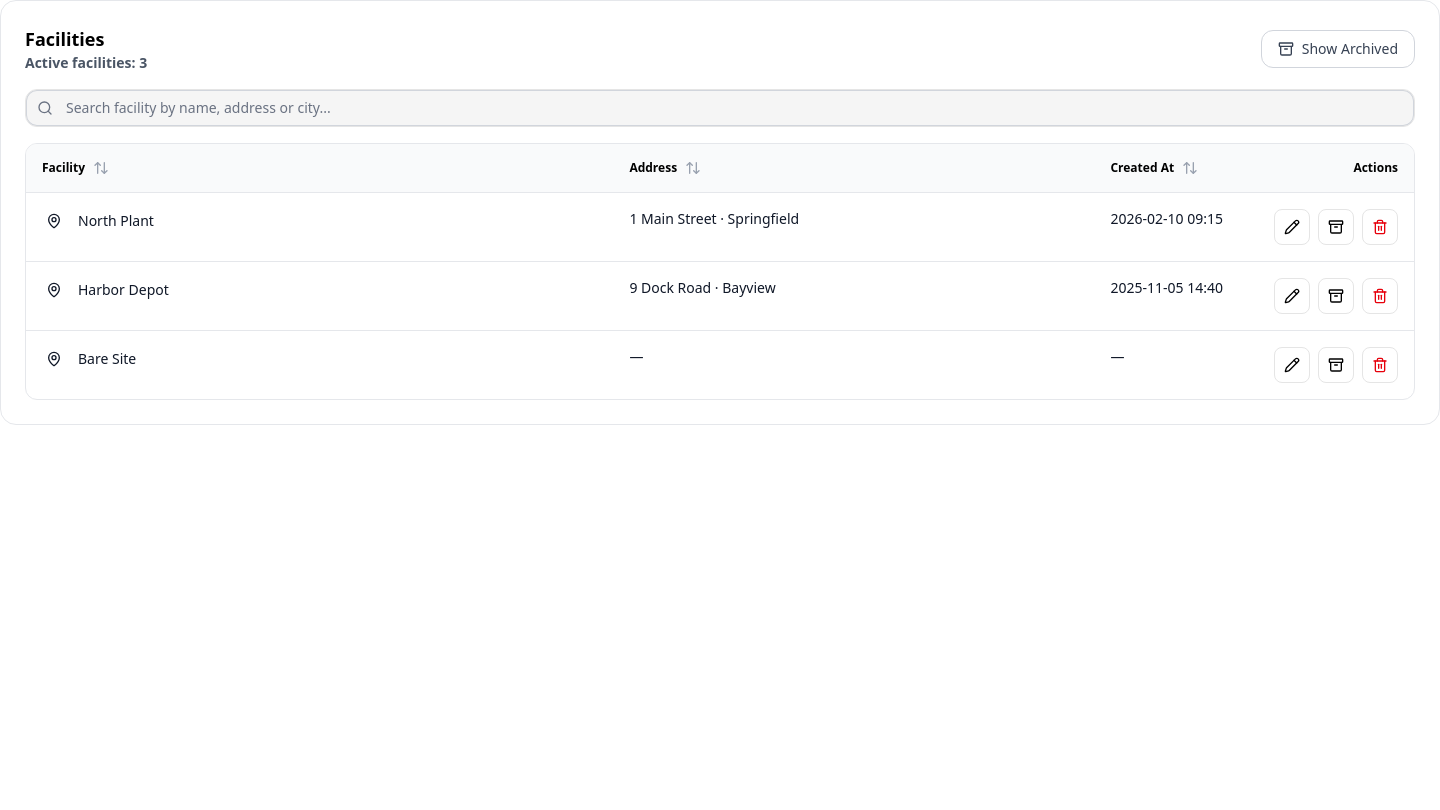
Test: FacilitiesContent › edit › loads legacy notes into the description field
Click the button named "Edit facility" in the row of "Harbor Depot". click: (1292, 296)
box: [1274,278,1310,314]
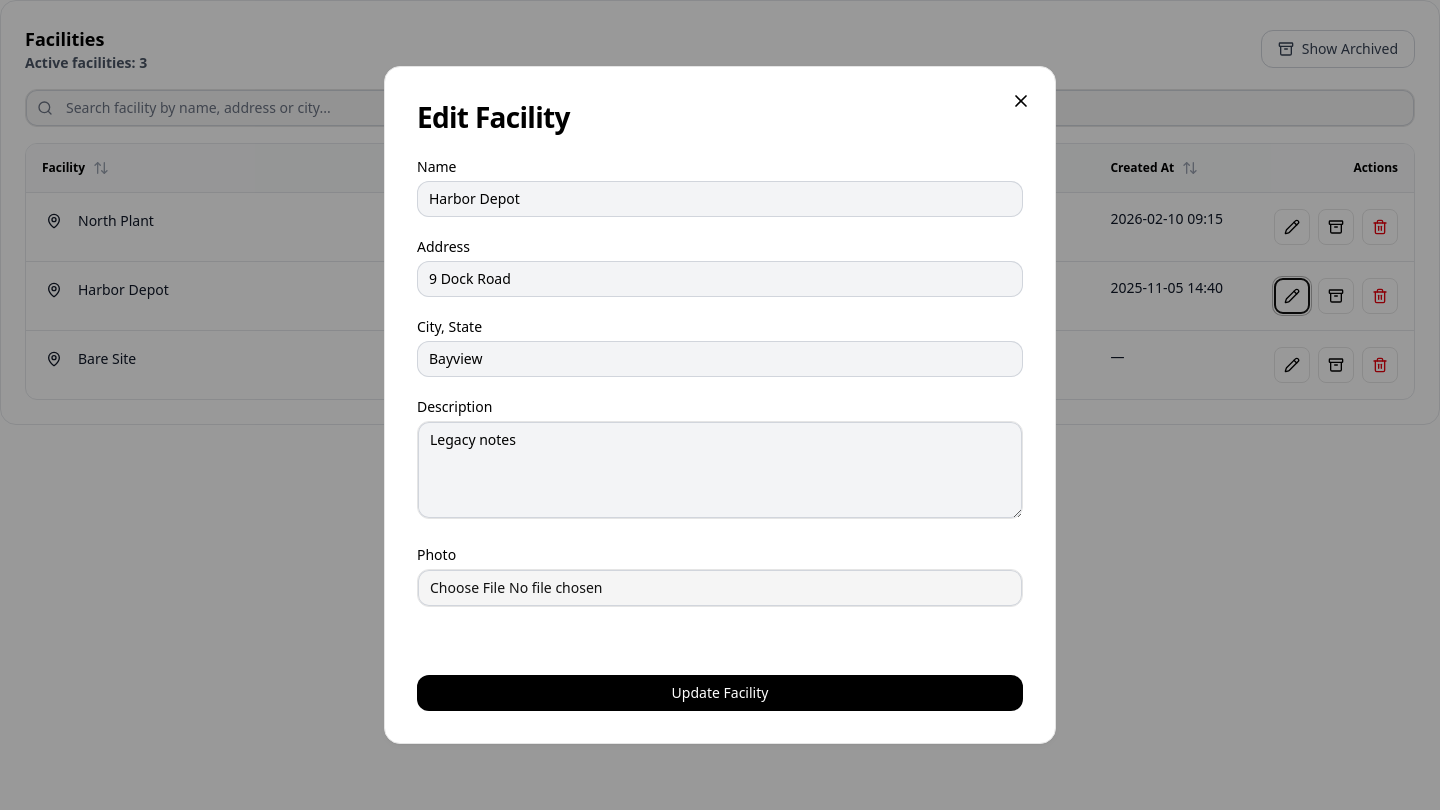
Result: the text box labelled "Description" holds "Legacy notes" at [417,421,1023,519]
